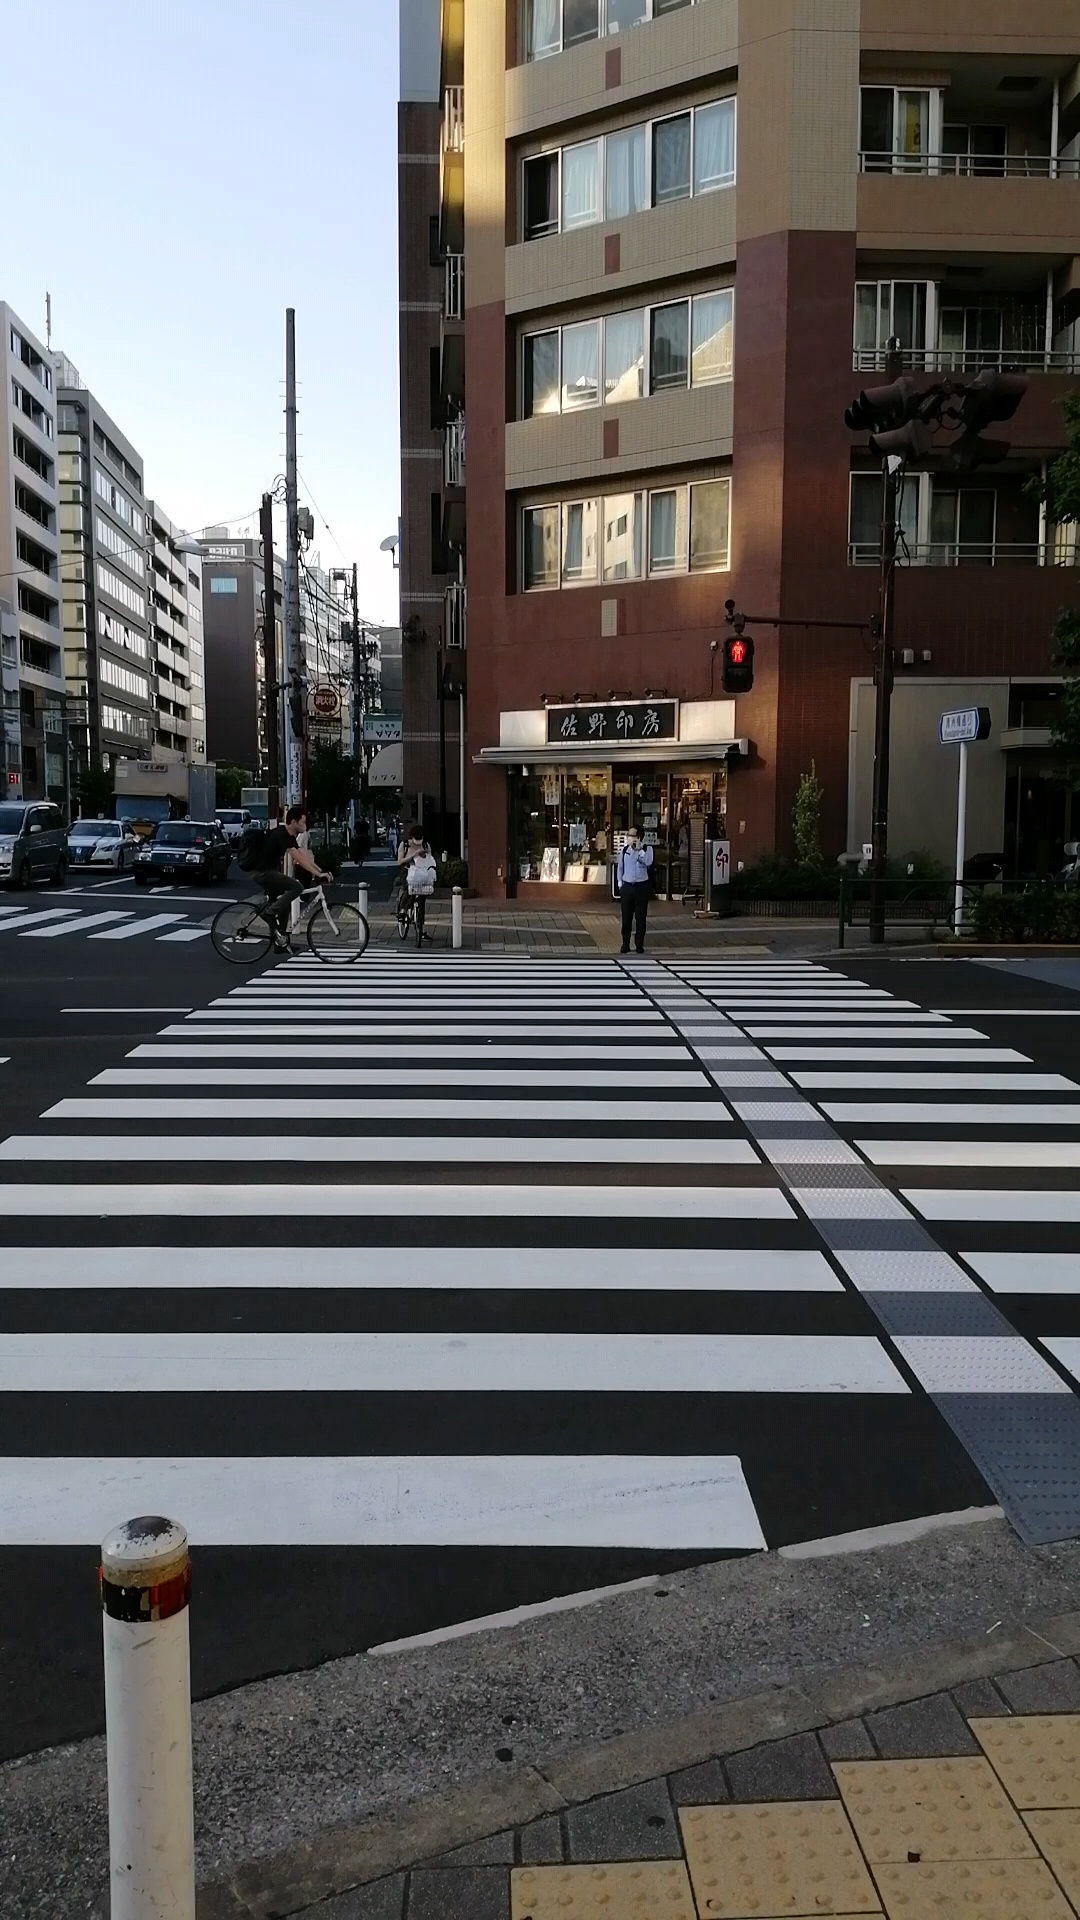red: (720, 636, 752, 696)
